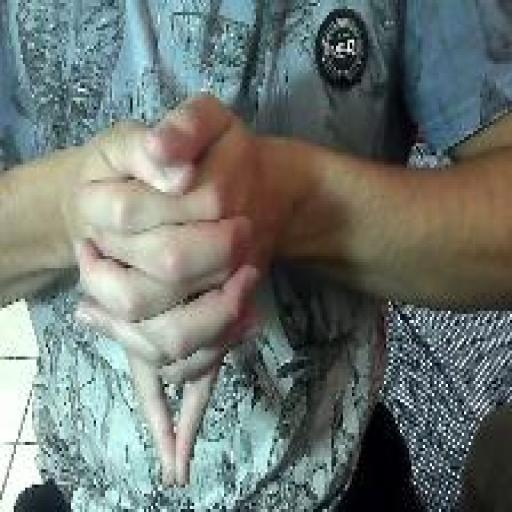Tatsu -dragon-: (68, 88, 268, 494)
